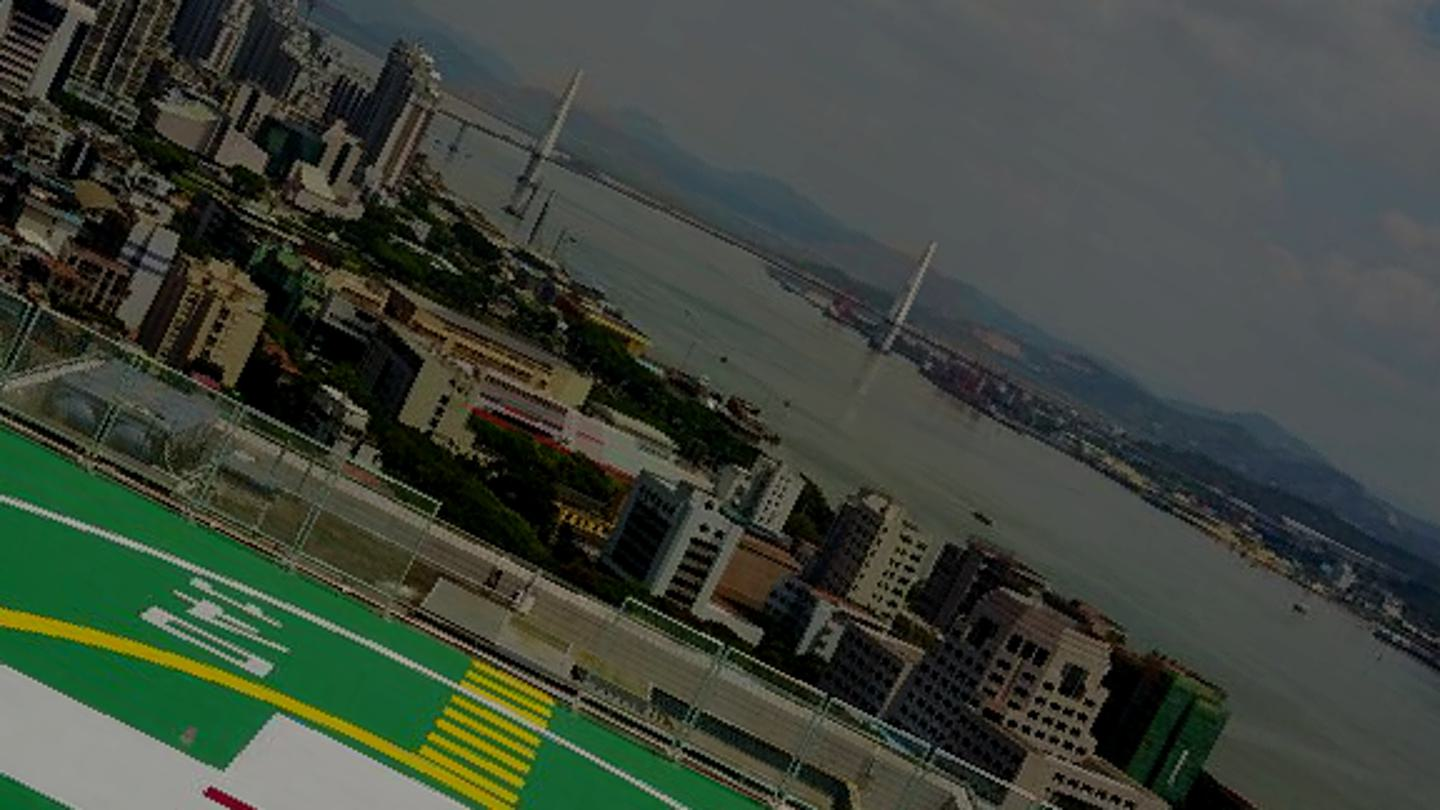Apron: (1, 566, 539, 810)
